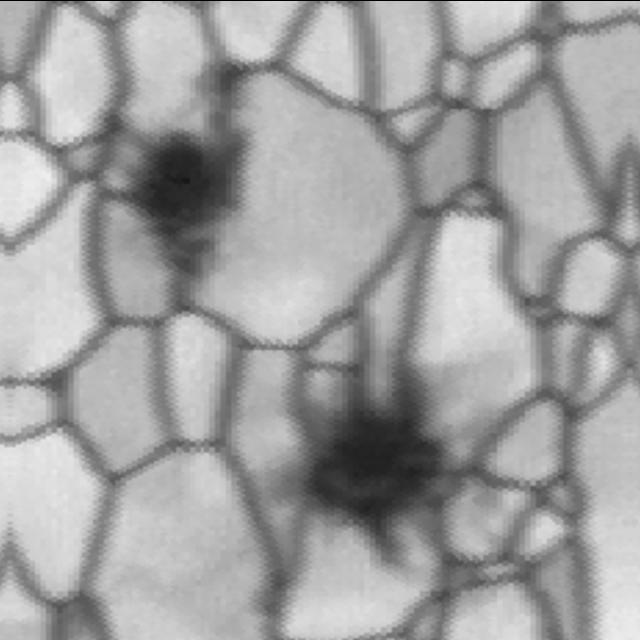good_void: (257, 372, 467, 603), (93, 110, 263, 299)
